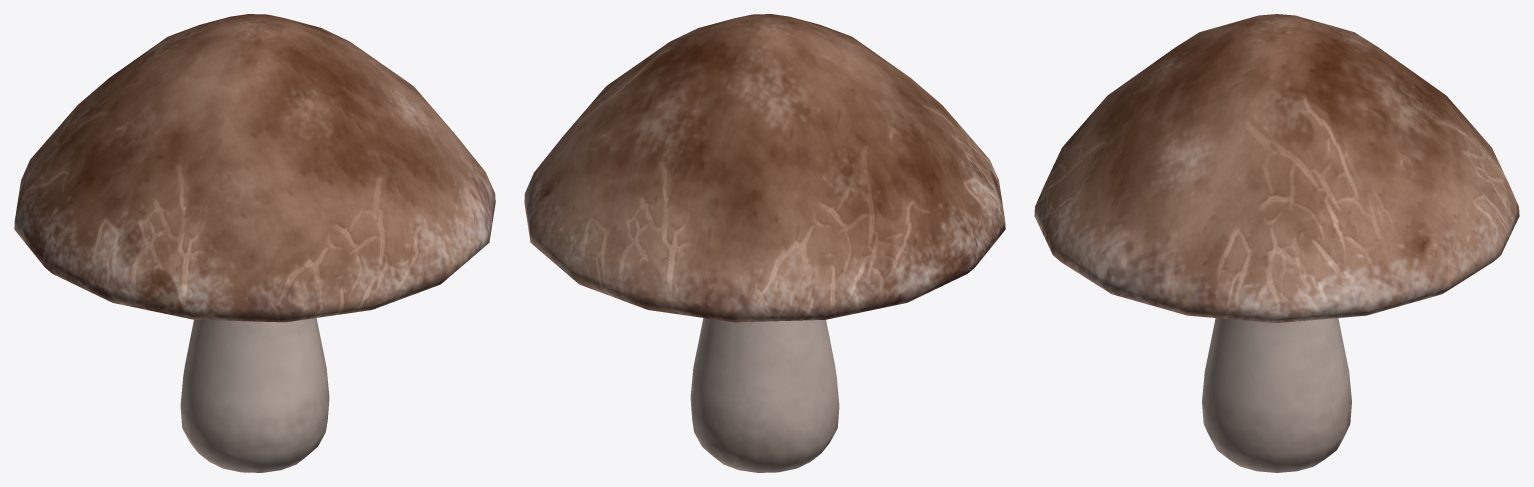
The model's file is Mushroom_geo.fbx.
The picture shows the model from 3 angles, left to right: view 1: azimuth 30°, elevation 25°; view 2: azimuth 150°, elevation 25°; view 3: azimuth 270°, elevation 25°; orthographic projection.
Visible parts, largest first — view 1: Mushroom; view 2: Mushroom; view 3: Mushroom.
Part boxes in pixels (box(x1,y1,x2,y2)): Mushroom: box(14, 14, 495, 472); Mushroom: box(524, 14, 1005, 472); Mushroom: box(1034, 14, 1519, 472).
Size of the model in its own units: 23.98 by 23.52 by 23.98.
Materials: 1 (1 with a texture image).
